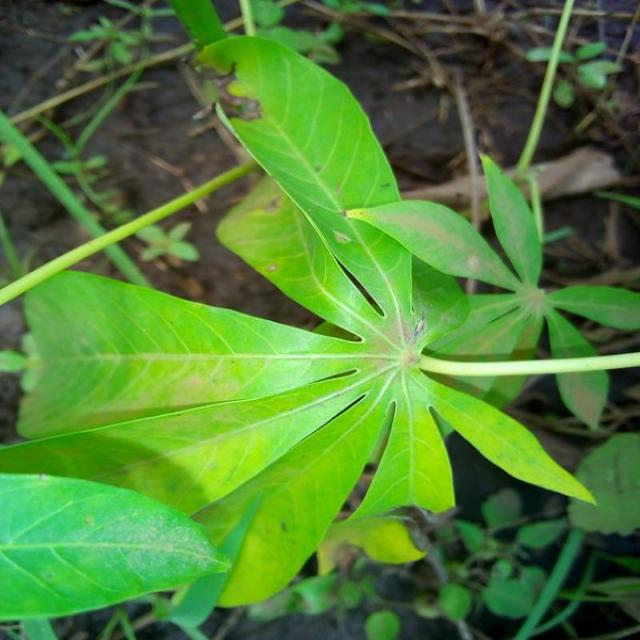cassava leaf: (1, 33, 632, 627), (0, 469, 231, 624)
